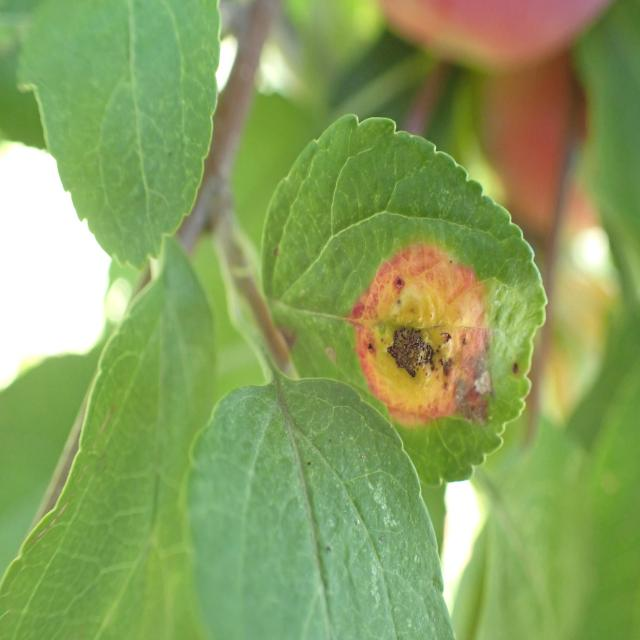rust: (262, 114, 550, 489)
